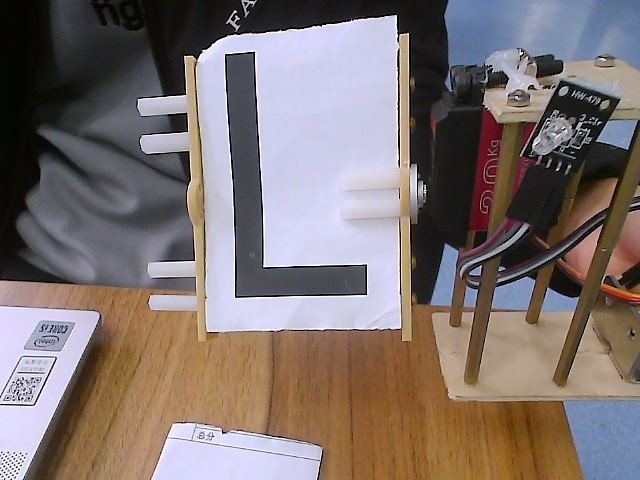L: (105, 14, 450, 372)
